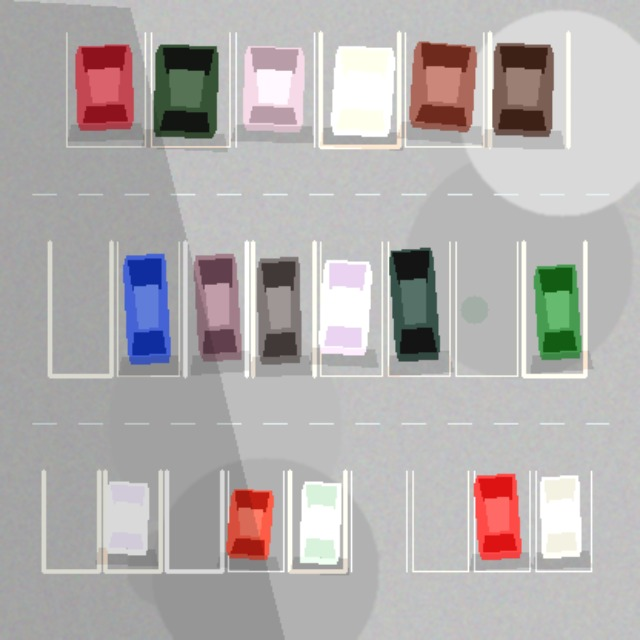space-empty: (49, 242, 111, 375), (455, 242, 517, 375), (166, 471, 222, 571), (412, 471, 468, 571), (43, 471, 98, 571), (351, 471, 406, 571)
space-occupied: (66, 32, 145, 146), (235, 32, 314, 146), (489, 32, 568, 146), (151, 32, 229, 146), (320, 32, 398, 146), (405, 32, 483, 146), (252, 242, 314, 375), (320, 242, 382, 375), (523, 242, 585, 375), (117, 242, 178, 375), (185, 242, 246, 375), (388, 242, 449, 375), (289, 471, 345, 571), (535, 471, 591, 571), (105, 471, 160, 571), (228, 471, 283, 571), (474, 471, 529, 571)
